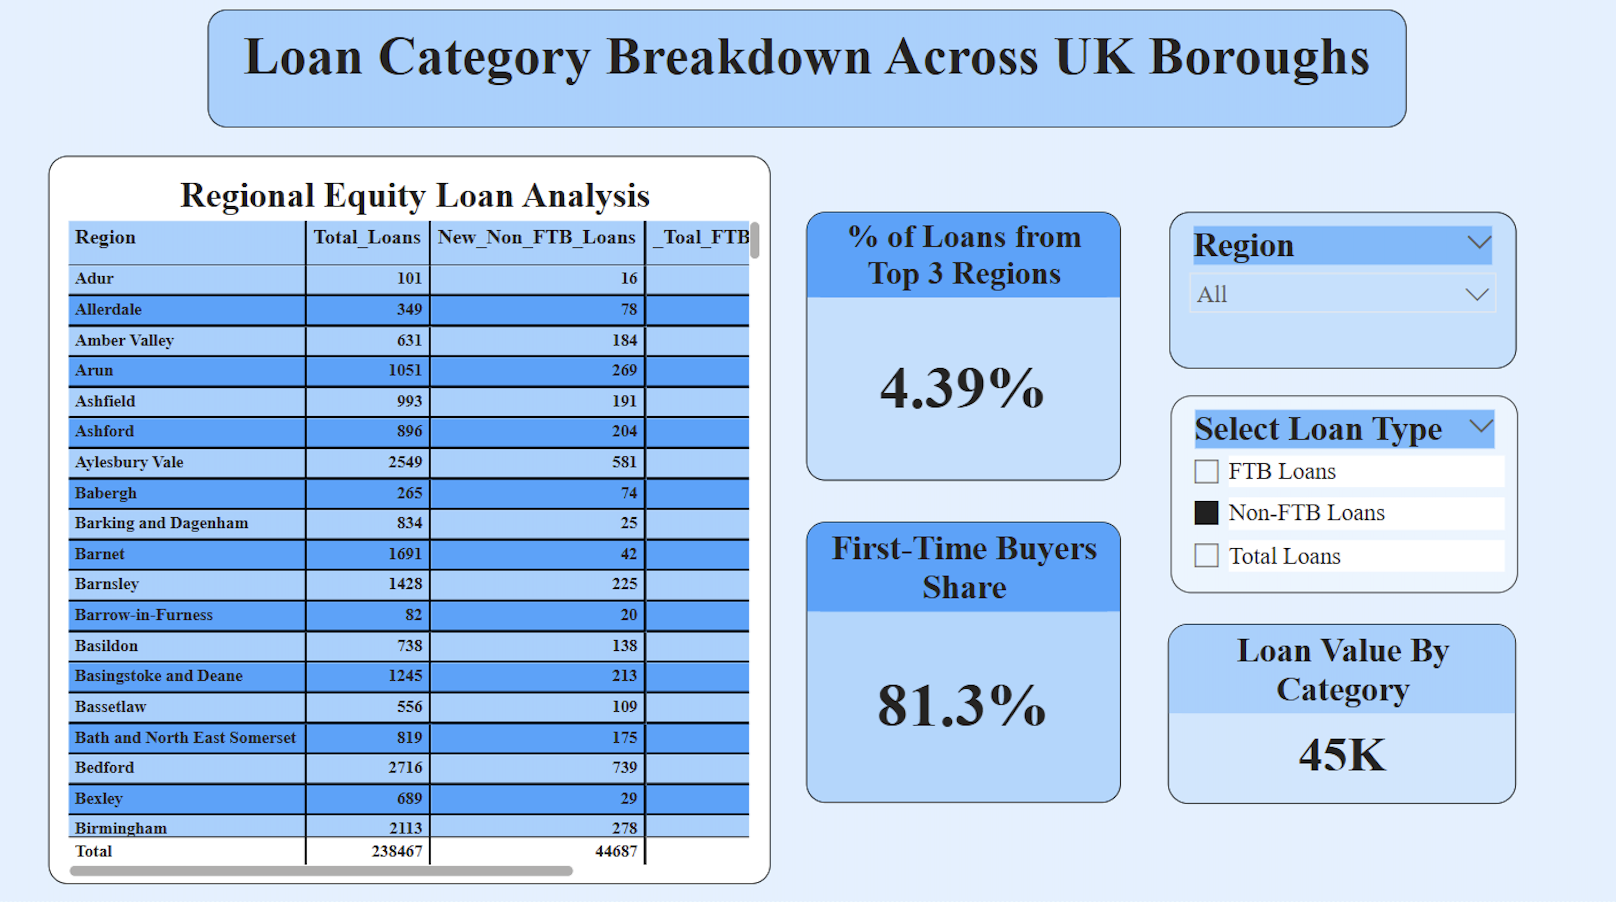

Layout of this report page (visuals, bound fields, positions):
{"tool":"powerbi","page":{"name":"Regional Breakdown","canvas":[1280,720],"ordinal":1},"visuals":[{"type":"tableEx","title":"Regional Equity Loan Analysis","fields":{"Values":["EquityLoans_Main.Region","EquityLoans_Main.Total_Loans","EquityLoans_Main.New_Non_FTB_Loans","EquityLoans_Main._Toal_FTB_Percentage","EquityLoans_Main.FTB_Loans"]},"box":[12.3,148.2,566.7,572.2],"z":0},{"type":"slicer","fields":{"Values":["EquityLoans_Main.Region"]},"box":[924.5,177.3,272.7,123.5],"z":1000},{"type":"card","title":"Loan Value By Category","fields":{"Values":["EquityLoans_Main.SelectedLoanValue"]},"box":[923.2,500.1,273.9,141.8],"z":2000},{"type":"slicer","fields":{"Values":["LoanTypeSelector.Loan Type"]},"box":[924.9,321.1,273.1,155.1],"z":3000},{"type":"textbox","box":[157.7,0,941.6,92.9],"z":4000},{"type":"card","title":"% of Loans from Top 3 Regions","fields":{"Values":["EquityLoans_Detail.Top3_Contribution_Percent"]},"box":[639.5,177,247,211.3],"z":4001},{"type":"card","title":"First-Time Buyers Share","fields":{"Values":["EquityLoans_Main._Toal_FTB_Percentage"]},"box":[639.5,419.9,247,220.9],"z":4002}]}

Visuals, with their boxes in screenshot pixels (x1, y1, x2, y2), scaled from the page's 1280x720 canvas onto the 1616x902 screenshot:
"Regional Equity Loan Analysis" tableEx: [left=16, top=186, right=731, bottom=901]
slicer - EquityLoans_Main.Region: [left=1167, top=222, right=1511, bottom=377]
"Loan Value By Category" card: [left=1166, top=627, right=1511, bottom=804]
slicer - LoanTypeSelector.Loan Type: [left=1168, top=402, right=1512, bottom=597]
textbox: [left=199, top=0, right=1388, bottom=116]
"% of Loans from Top 3 Regions" card: [left=807, top=222, right=1119, bottom=486]
"First-Time Buyers Share" card: [left=807, top=526, right=1119, bottom=803]
